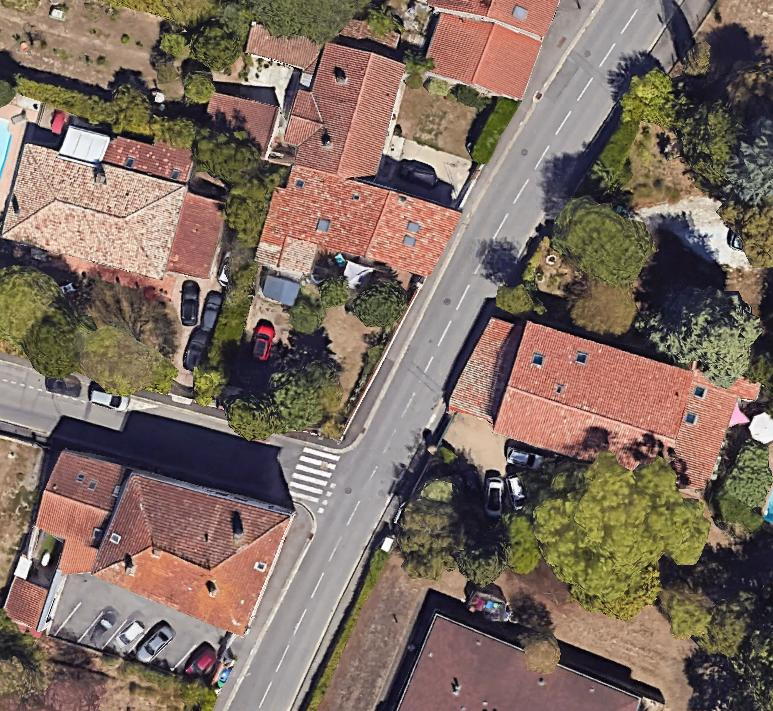maison: (443, 306, 759, 502), (21, 448, 295, 641), (0, 108, 239, 292), (255, 162, 462, 307), (276, 35, 409, 187), (428, 0, 558, 99)
